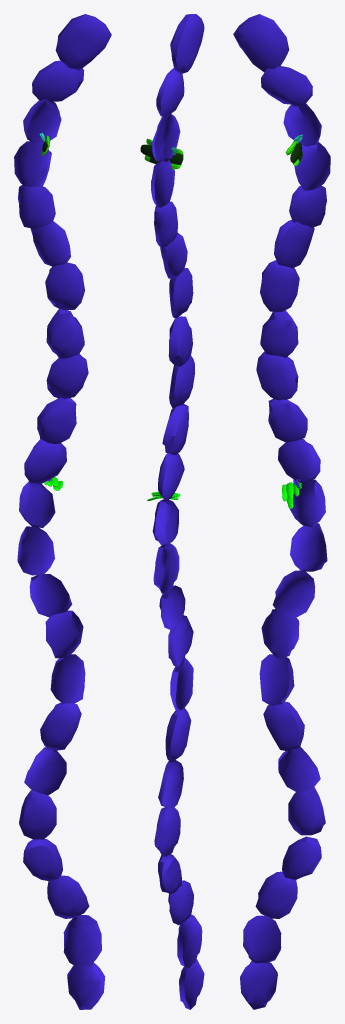
Rendered from rockss.fbx.
3 renders of one model, left to right at view 1: azimuth 90°, elevation 25°; view 2: azimuth 150°, elevation 25°; view 3: azimuth 270°, elevation 25°, orthographic.
Visible parts, largest first — view 1: Pond; view 2: Pond; view 3: Pond.
Boxes of the visible parts, bbox=[...] form: Pond: bbox=[14, 14, 111, 1009]; Pond: bbox=[140, 14, 204, 1009]; Pond: bbox=[233, 14, 330, 1009].
Bounding box in the file's own units: 69.13 × 1409 × 125.
